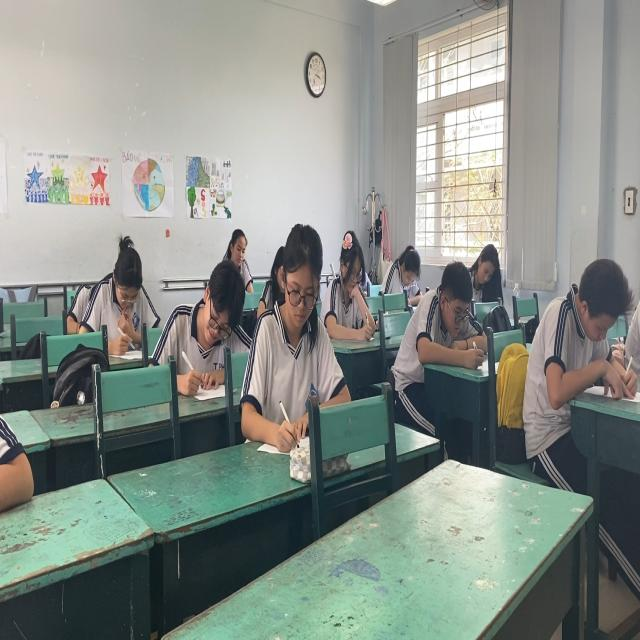not_cheating: (262, 215, 346, 406), (169, 261, 260, 402), (532, 257, 624, 395), (410, 264, 479, 381), (91, 229, 161, 344), (328, 206, 378, 346), (217, 218, 262, 302), (377, 250, 427, 308), (464, 239, 505, 305)
